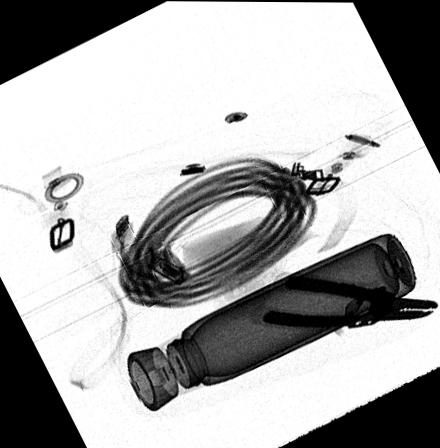Pliers: (261, 273, 438, 327)
